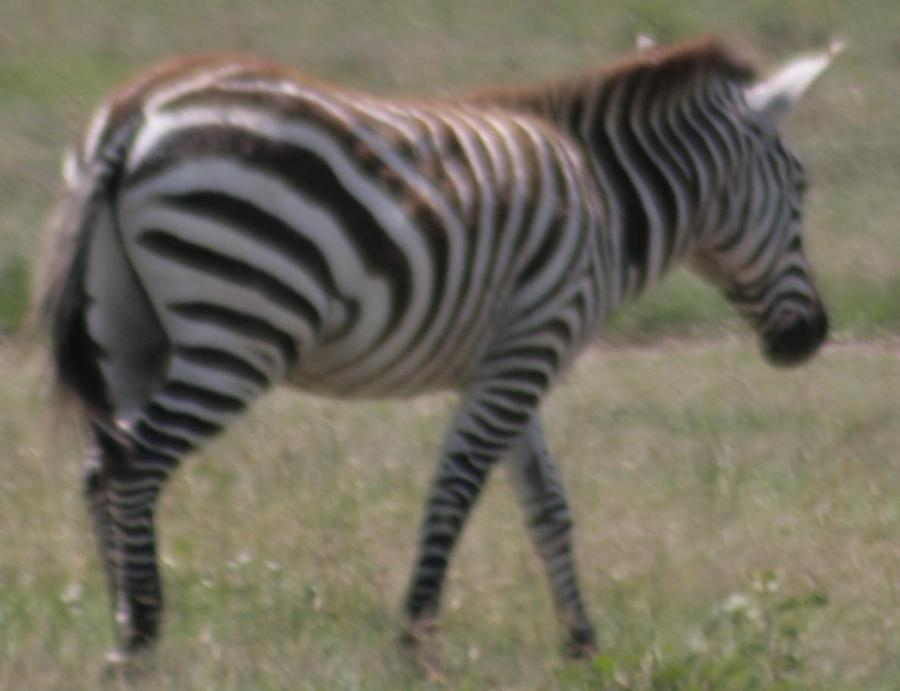zebra_plains: (45, 6, 665, 469)
